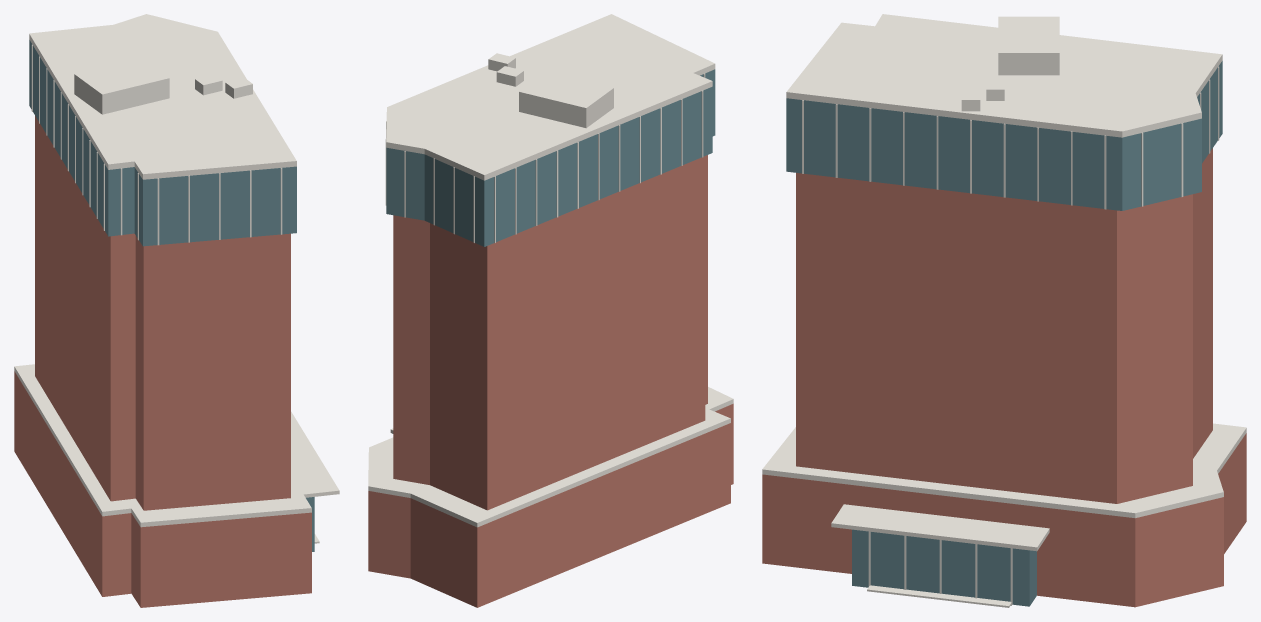
The model's file is shirley.glb.
3 renders of one model, left to right at view 1: azimuth 30°, elevation 25°; view 2: azimuth 150°, elevation 25°; view 3: azimuth 270°, elevation 25°, orthographic. The views are drawn at different scales.
Parts seen in each view (by area): view 1: SHC_tower, SHC_podium, SHC_roof, SHC_crown, SHC_podium_band, SHC_roof_plant, SHC_canopy, SHC_roof_ac_1, SHC_roof_ac_0; view 2: SHC_tower, SHC_podium, SHC_roof, SHC_crown, SHC_podium_band, SHC_roof_plant; view 3: SHC_tower, SHC_roof, SHC_crown, SHC_podium, SHC_atrium, SHC_podium_band, SHC_canopy, SHC_roof_plant, SHC_step_1.
Part boxes in pixels (<box>): SHC_tower: <box>35,116,290,510</box>; SHC_podium: <box>14,371,311,607</box>; SHC_roof: <box>29,14,296,179</box>; SHC_crown: <box>29,40,296,246</box>; SHC_podium_band: <box>14,364,311,527</box>; SHC_roof_plant: <box>74,58,169,114</box>; SHC_canopy: <box>291,411,339,497</box>; SHC_roof_ac_1: <box>225,78,252,98</box>; SHC_roof_ac_0: <box>195,74,222,95</box>; SHC_tower: <box>393,155,707,510</box>; SHC_podium: <box>368,403,733,607</box>; SHC_roof: <box>386,14,715,180</box>; SHC_crown: <box>386,69,715,246</box>; SHC_podium_band: <box>368,387,733,527</box>; SHC_roof_plant: <box>519,71,613,128</box>; SHC_tower: <box>796,148,1212,503</box>; SHC_roof: <box>786,14,1222,137</box>; SHC_crown: <box>786,61,1222,210</box>; SHC_podium: <box>762,433,1246,607</box>; SHC_atrium: <box>852,529,1036,606</box>; SHC_podium_band: <box>762,423,1246,518</box>; SHC_canopy: <box>831,504,1049,551</box>; SHC_roof_plant: <box>998,16,1059,75</box>; SHC_step_1: <box>867,585,1011,607</box>.
Bounding box in the file's own units: 27.5 × 44.15 × 39.45.
